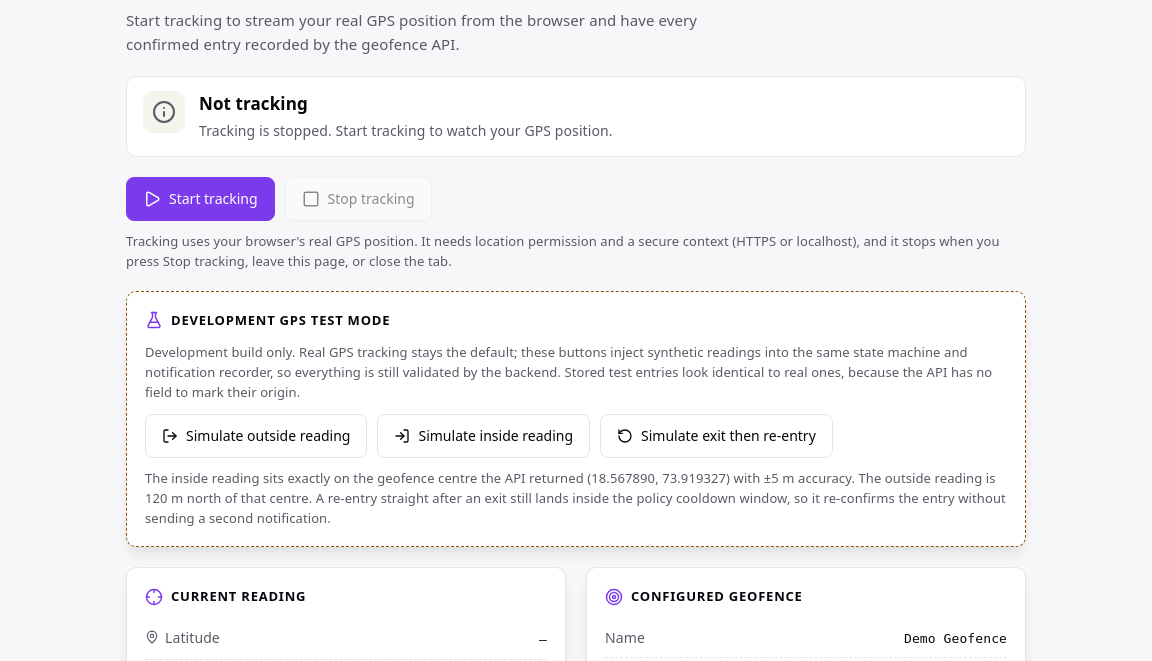
development GPS test mode › surfaces the API error when the backend rejects the event
Click the button "Simulate inside reading" at (484, 436), box top-left (378, 414), bottom-right (590, 458)
(page scrolled)
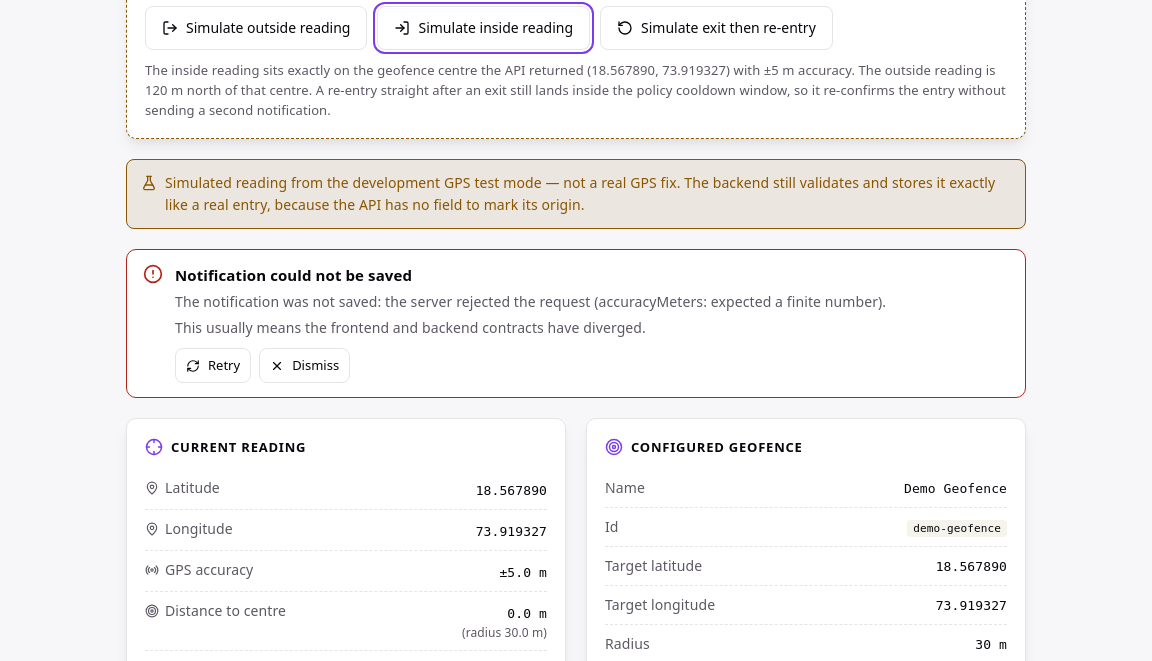
Expected: the message shows "Notification could not be saved", top-left (175, 265), bottom-right (412, 285)
Expected: the message shows "accuracyMeters: expected a finite number", top-left (175, 292), bottom-right (886, 311)
